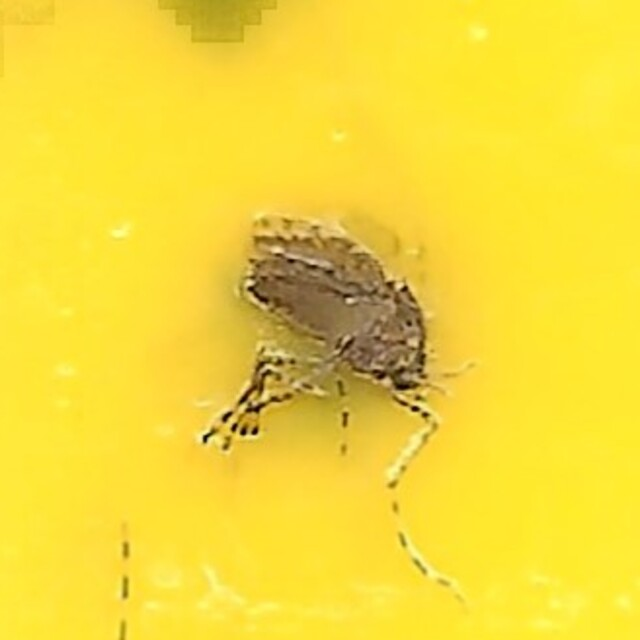Nematocera: (195, 193, 445, 447)
